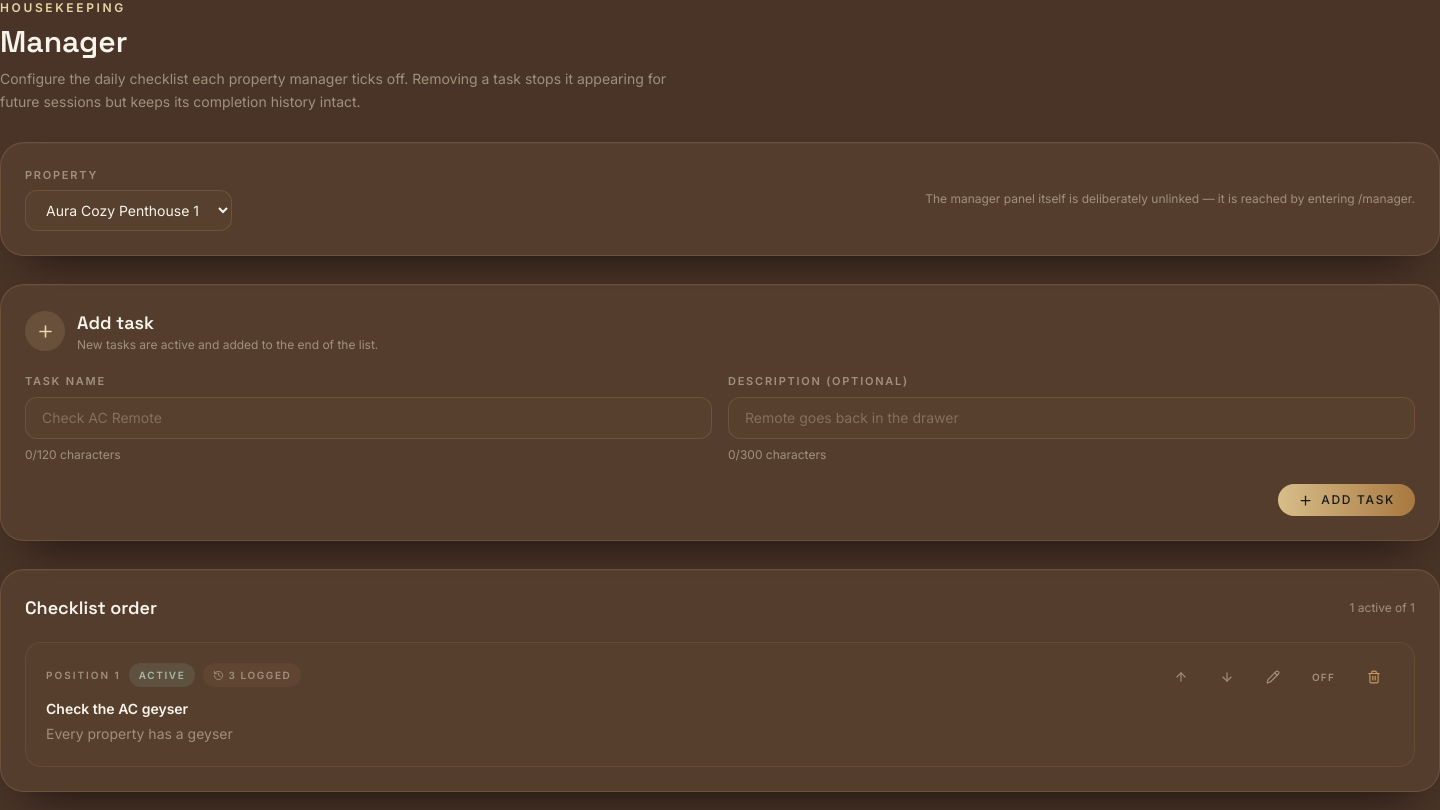
ManagerTab › warns about retained history before deleting a task
expect the text "Check the AC geyser" is shown: met, box [46, 700, 188, 717]
Click the button named "Delete Check the AC geyser". click: x=1374, y=677
box: [1354, 663, 1394, 691]
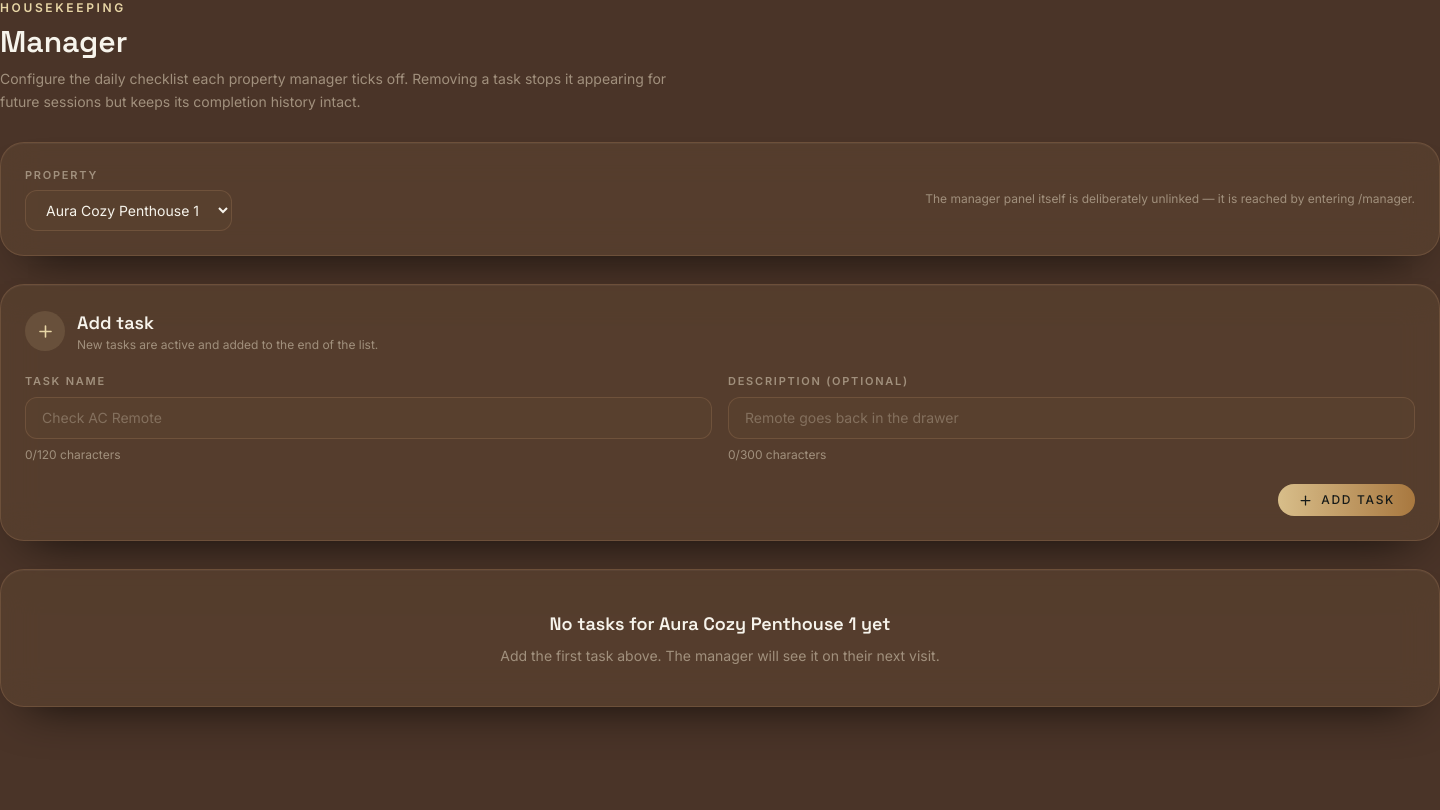
expect the heading "No tasks for Aura Cozy Penthouse 1 yet" is shown: met, box [550, 612, 890, 635]
